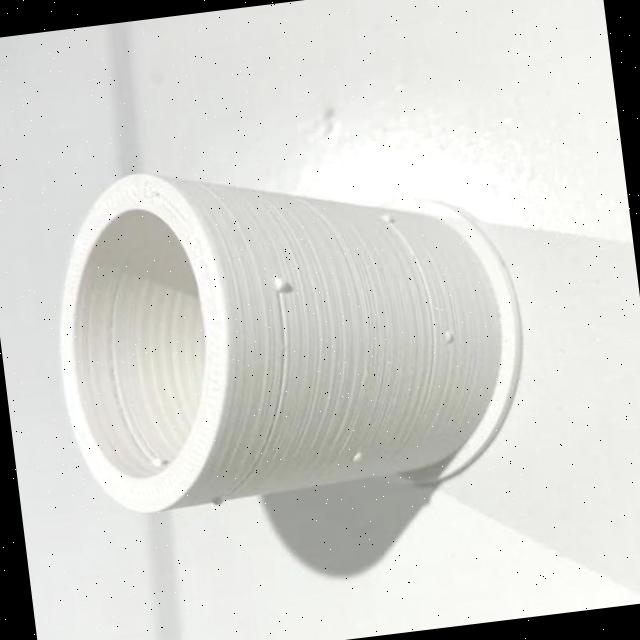blobs: (266, 272, 292, 299), (379, 205, 401, 231), (344, 444, 369, 466), (208, 488, 229, 512), (440, 326, 460, 345), (148, 453, 168, 470)
